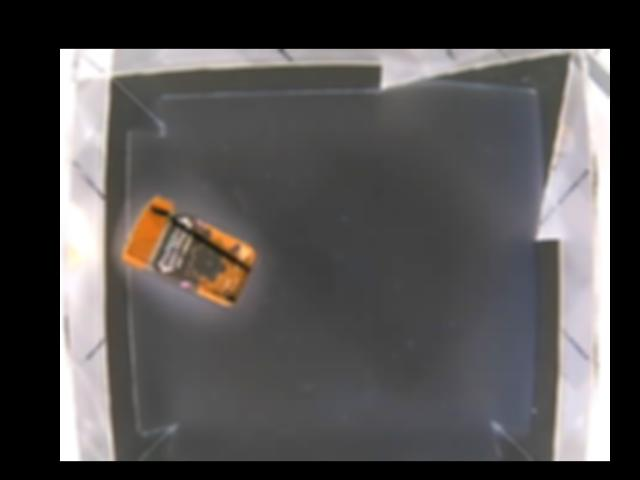Bottle: (121, 196, 259, 309)
